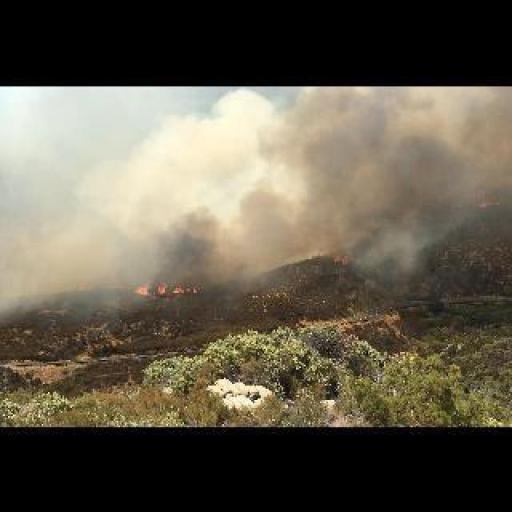smoke: (132, 278, 202, 294), (317, 248, 357, 266)
